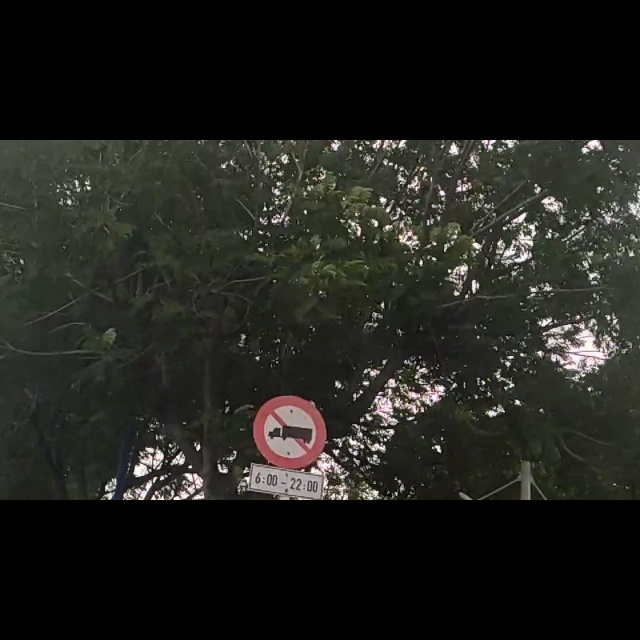bien_cam: (246, 456, 323, 640)
